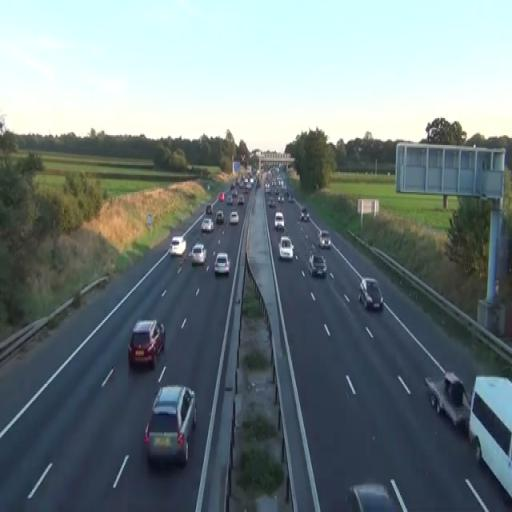Car: (144, 385, 197, 467), (128, 319, 166, 368), (358, 278, 384, 312), (308, 253, 326, 277), (214, 252, 231, 276), (169, 235, 187, 257), (190, 243, 207, 266), (278, 236, 294, 260), (318, 229, 332, 249), (274, 212, 285, 232), (201, 217, 214, 232), (229, 210, 239, 224)
